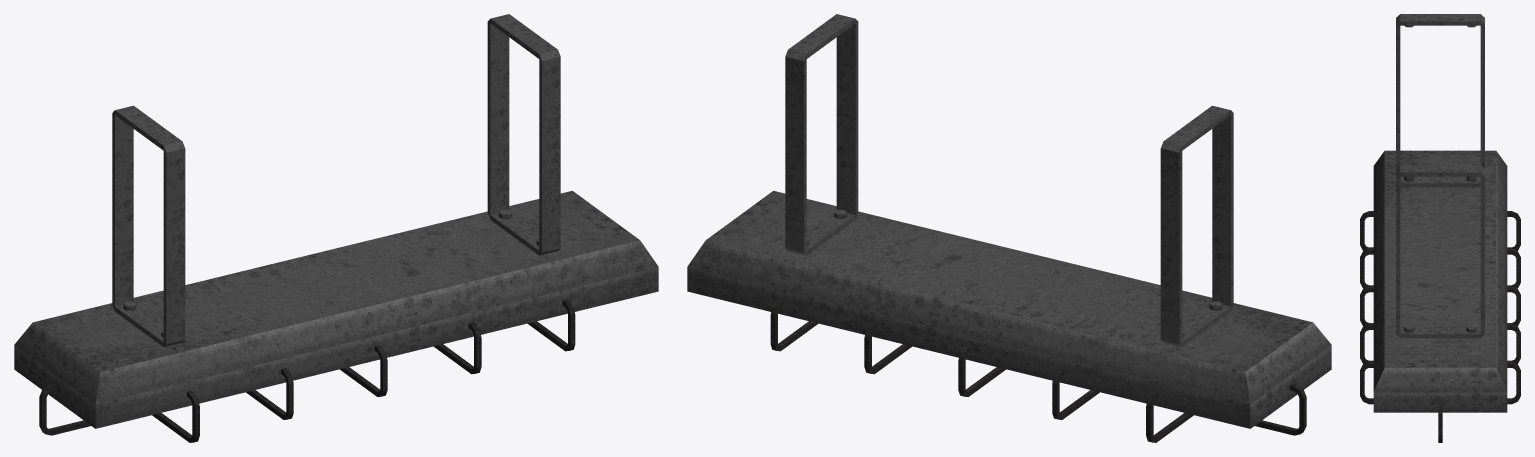
The model's file is ceiling_lamp_4_1_b_off.glb.
3 renders of one model, left to right at view 1: azimuth 30°, elevation 25°; view 2: azimuth 150°, elevation 25°; view 3: azimuth 270°, elevation 25°, orthographic. The views are drawn at different scales.
Visible parts, largest first — view 1: ceiling_lamp_4_1_b_off, ceiling_lamp_4_1_b_off_protector; view 2: ceiling_lamp_4_1_b_off, ceiling_lamp_4_1_b_off_protector; view 3: ceiling_lamp_4_1_b_off, ceiling_lamp_4_1_b_off_protector.
Boxes of the visible parts, x1,y1,x2,y2 form: ceiling_lamp_4_1_b_off: (14,14,658,428); ceiling_lamp_4_1_b_off_protector: (39,299,575,442); ceiling_lamp_4_1_b_off: (687,14,1331,428); ceiling_lamp_4_1_b_off_protector: (770,299,1306,442); ceiling_lamp_4_1_b_off: (1373,14,1507,412); ceiling_lamp_4_1_b_off_protector: (1360,211,1520,442).
Bounding box in the file's own units: 1.26 × 0.58 × 0.36.
2 materials, 2 textured.
